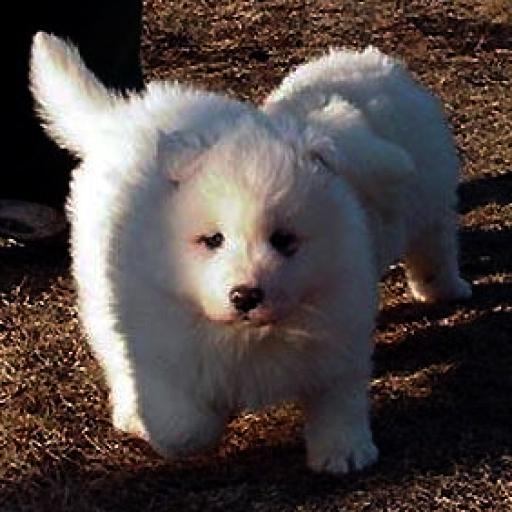dog_face: (153, 136, 357, 323)
